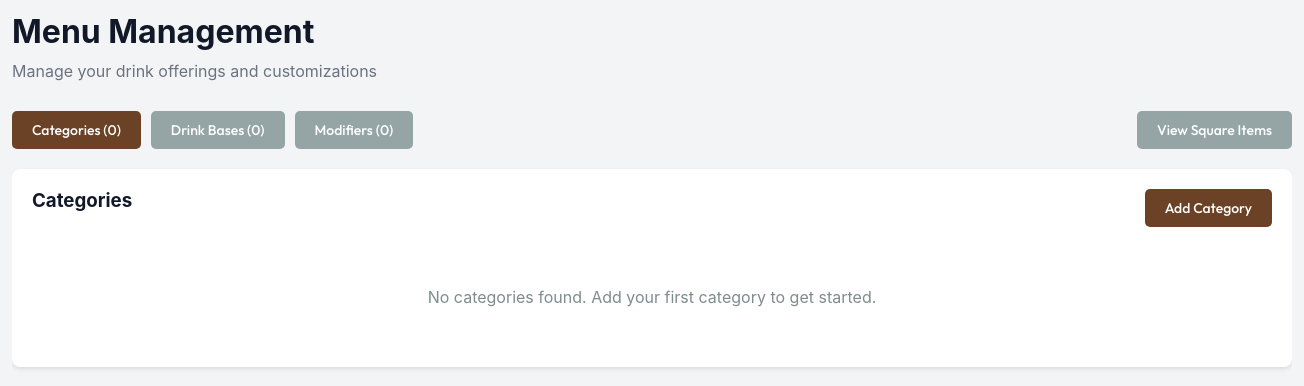
Test: MenuManagement › switches to Modifiers tab when clicked
Click the button "Modifiers (0)" at (354, 130), box x1=294 y1=111 x2=413 y2=149
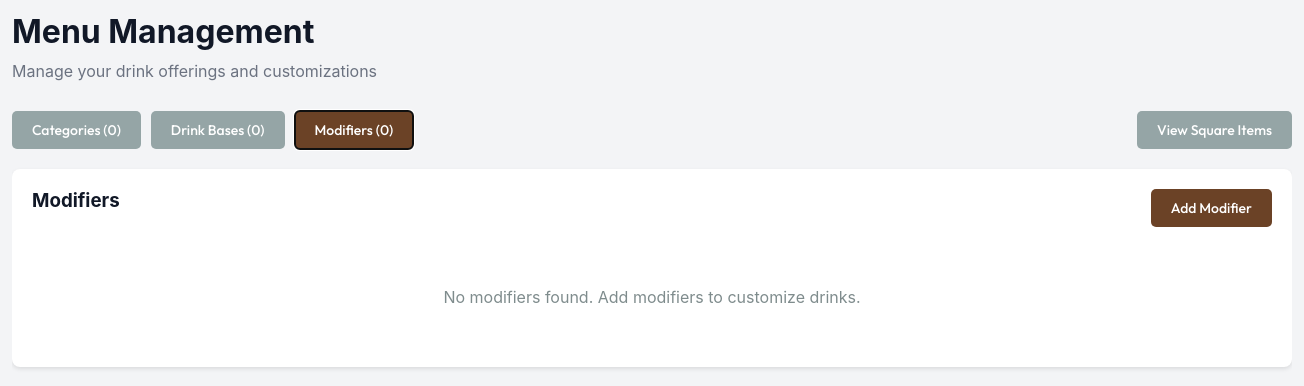
Check: the button "Add Modifier" is shown, box x1=1151 y1=189 x2=1272 y2=227
